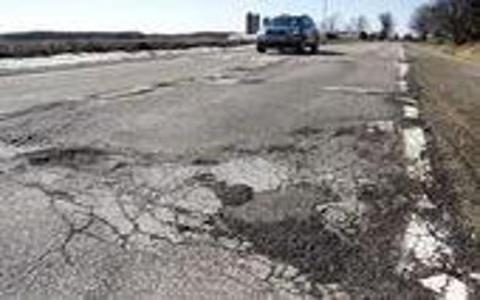patchy roads: (48, 119, 375, 285)
